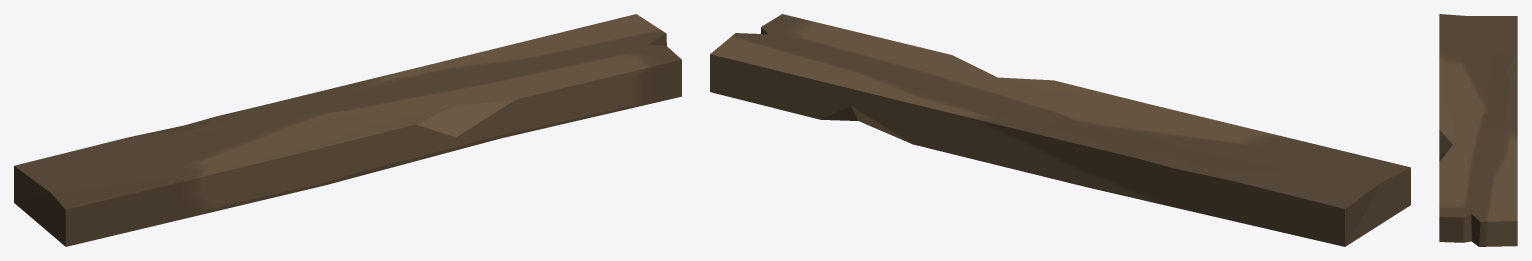
File: SM_Gen_Prop_Plank_02.obj
3 views of the same model, side by side, from view 1: azimuth 30°, elevation 25°; view 2: azimuth 150°, elevation 25°; view 3: azimuth 270°, elevation 25° (orthographic). The views are drawn at different scales.
Visible parts, largest first — view 1: SM_Gen_Prop_Plank_02_0; view 2: SM_Gen_Prop_Plank_02_0; view 3: SM_Gen_Prop_Plank_02_0.
Boxes of the visible parts, x1,y1,x2,y2 form: SM_Gen_Prop_Plank_02_0: (14,14,681,246); SM_Gen_Prop_Plank_02_0: (710,14,1410,246); SM_Gen_Prop_Plank_02_0: (1439,14,1517,246).
Size of the model in its own units: 1.77 by 0.1097 by 0.2813.
1 material, 1 textured.
